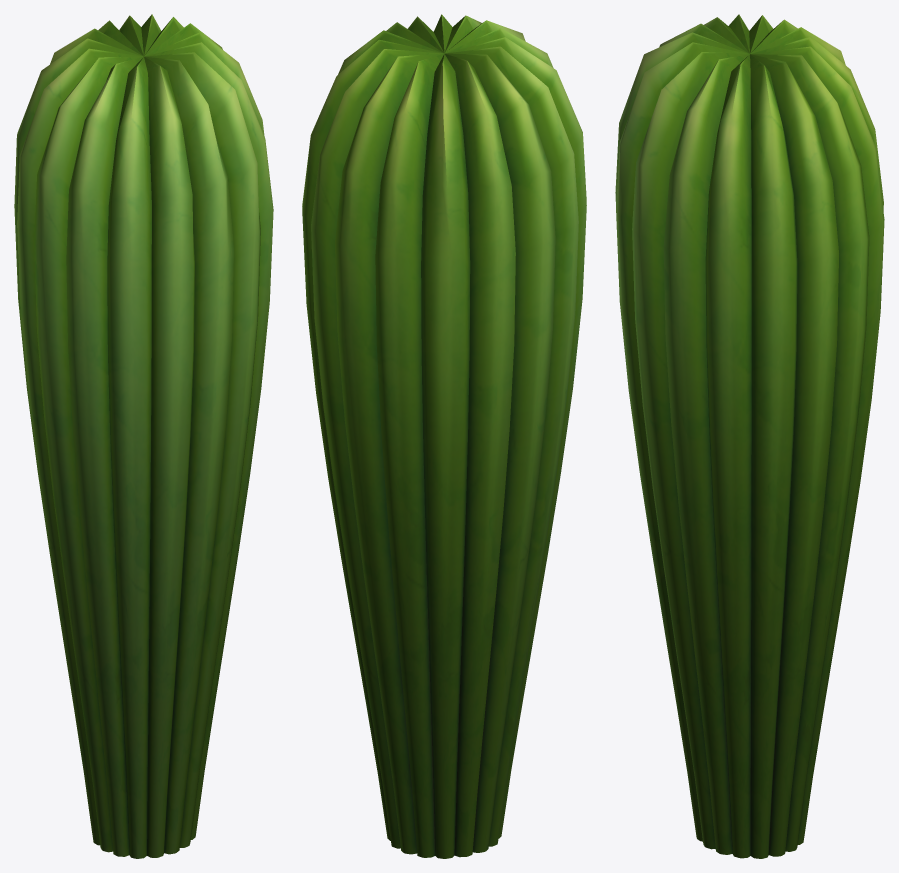
The model's file is DE_Cactus_26.fbx.
The picture shows the model from 3 angles, left to right: view 1: azimuth 30°, elevation 25°; view 2: azimuth 150°, elevation 25°; view 3: azimuth 270°, elevation 25°; orthographic projection.
Visible parts, largest first — view 1: DE_Cactus_26; view 2: DE_Cactus_26; view 3: DE_Cactus_26.
Boxes of the visible parts, x1=… form: DE_Cactus_26: x1=14, y1=14, x2=273, y2=858; DE_Cactus_26: x1=302, y1=14, x2=586, y2=858; DE_Cactus_26: x1=615, y1=14, x2=884, y2=858.
Bounding box in the file's own units: 2.02 × 6.5 × 1.99.
